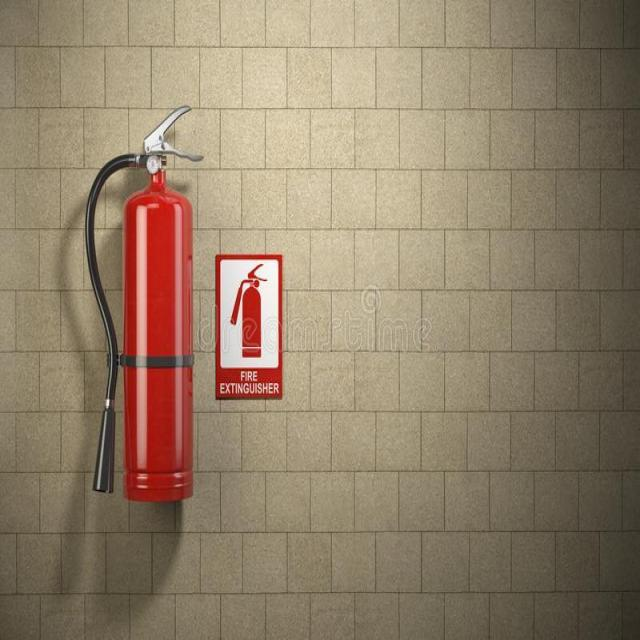fire_extinguisher: (81, 101, 205, 504)
